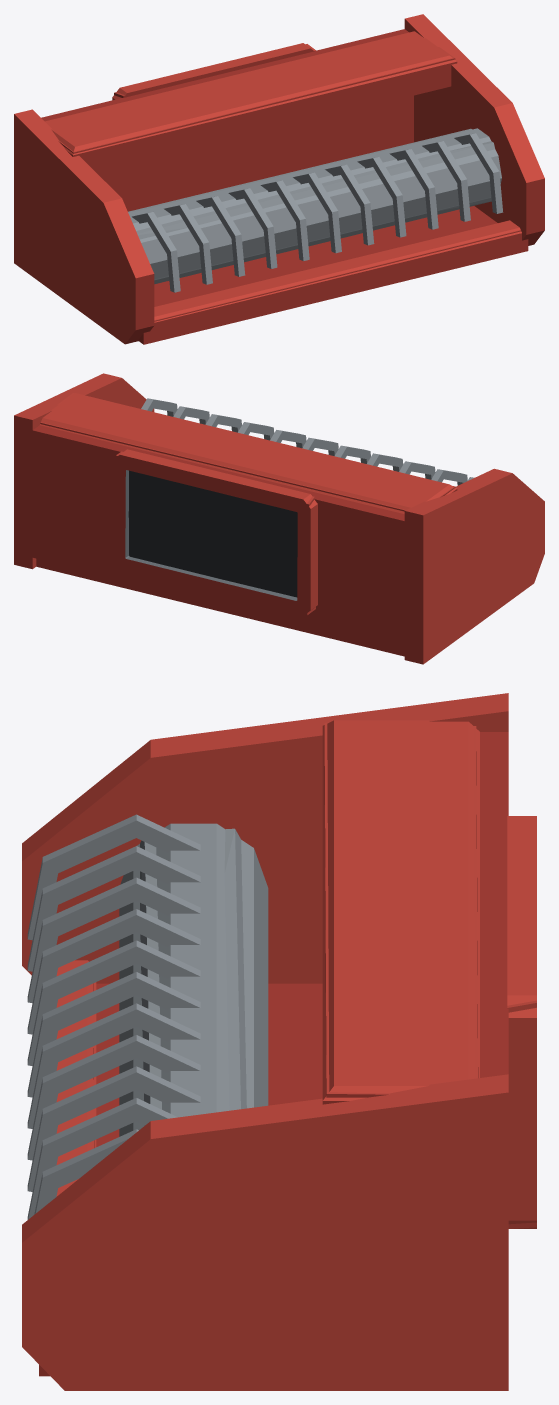
The model's file is FMS_Mach_Header_Pickup.fbx.
The picture shows the model from 3 angles, top to bottom: view 1: azimuth 30°, elevation 25°; view 2: azimuth 150°, elevation 25°; view 3: azimuth 270°, elevation 25°; orthographic projection. The views are drawn at different scales.
Visible parts, largest first — view 1: Frame, Pickup, Frame_Low1, Pickup_Low1; view 2: Frame, Frame_Low1, Pickup; view 3: Frame, Pickup, Frame_Low1, Pickup_Low1.
Part boxes in pixels (x1,y1,x2,y2): Frame: (14, 14, 544, 344); Pickup: (128, 128, 503, 292); Frame_Low1: (26, 19, 544, 343); Pickup_Low1: (128, 128, 494, 284); Frame: (14, 373, 544, 664); Frame_Low1: (40, 374, 510, 615); Pickup: (141, 398, 474, 485); Frame: (22, 693, 536, 1390); Pickup: (27, 814, 268, 1219); Frame_Low1: (22, 702, 536, 1241); Pickup_Low1: (140, 828, 246, 1110).
Bounding box in the file's own units: 3.3 × 1.15 × 1.8.
Materials: 1 (1 with a texture image).
